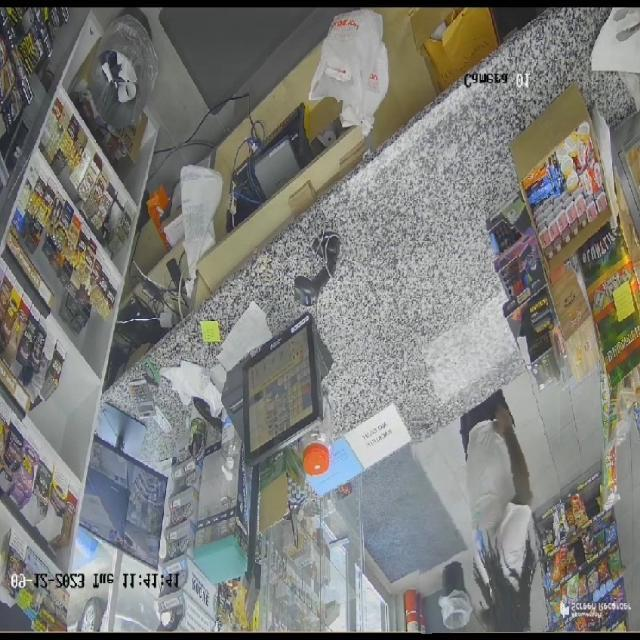Normal: (411, 366, 560, 632)
